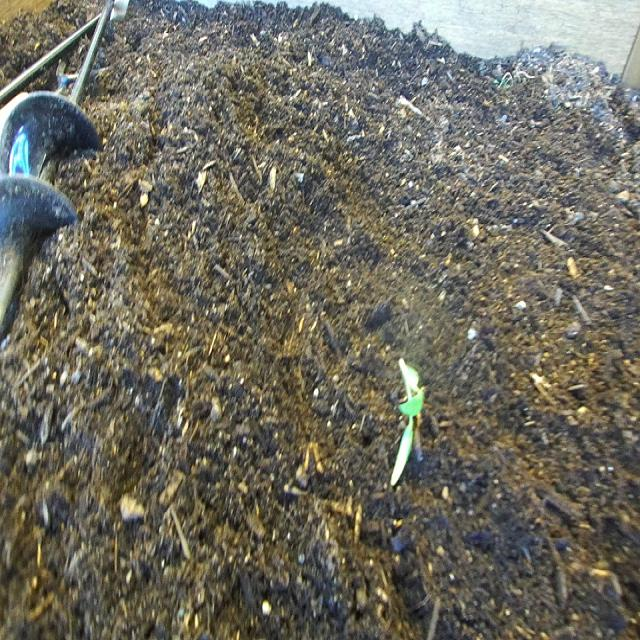Healthy: (388, 345, 439, 509)
